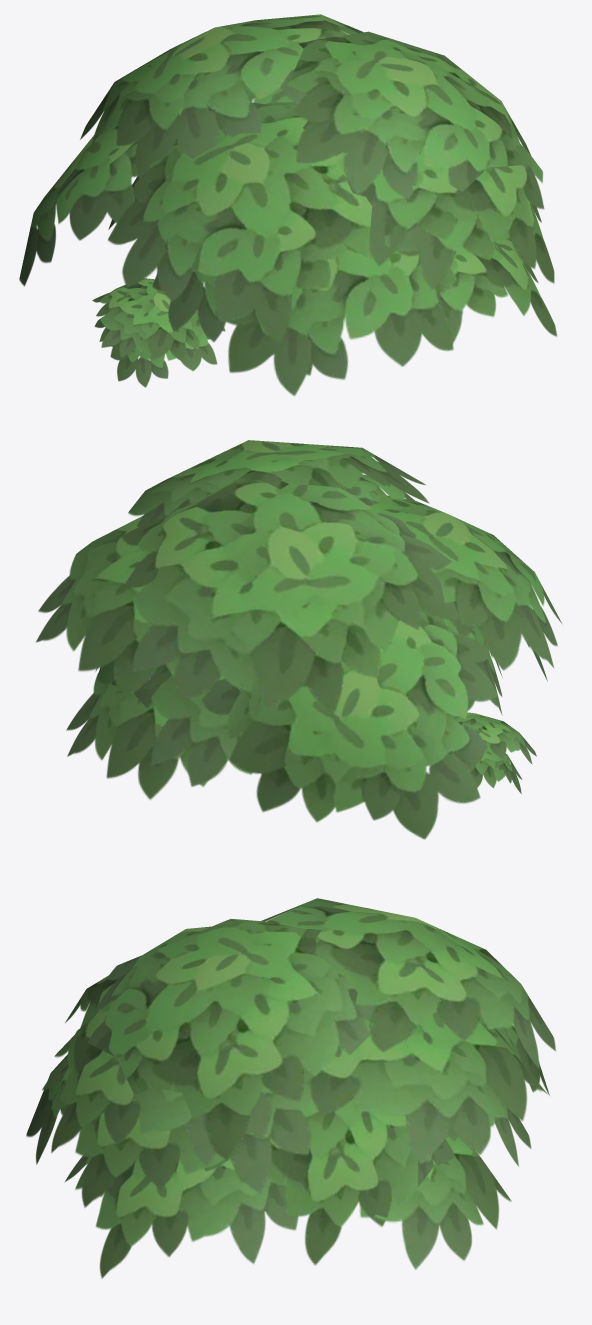
File: bush.glb
The picture shows the model from 3 angles, top to bottom: view 1: azimuth 30°, elevation 25°; view 2: azimuth 150°, elevation 25°; view 3: azimuth 270°, elevation 25°; orthographic projection. The views are drawn at different scales.
Visible parts, largest first — view 1: Bush_Large; view 2: Bush_Large; view 3: Bush_Large.
Boxes of the visible parts, <box> form: Bush_Large: <box>19,14,556,395</box>; Bush_Large: <box>36,440,562,839</box>; Bush_Large: <box>26,898,555,1278</box>.
Bounding box in the file's own units: 2.07 × 1.19 × 2.07.
Materials: 1 (1 with a texture image).
